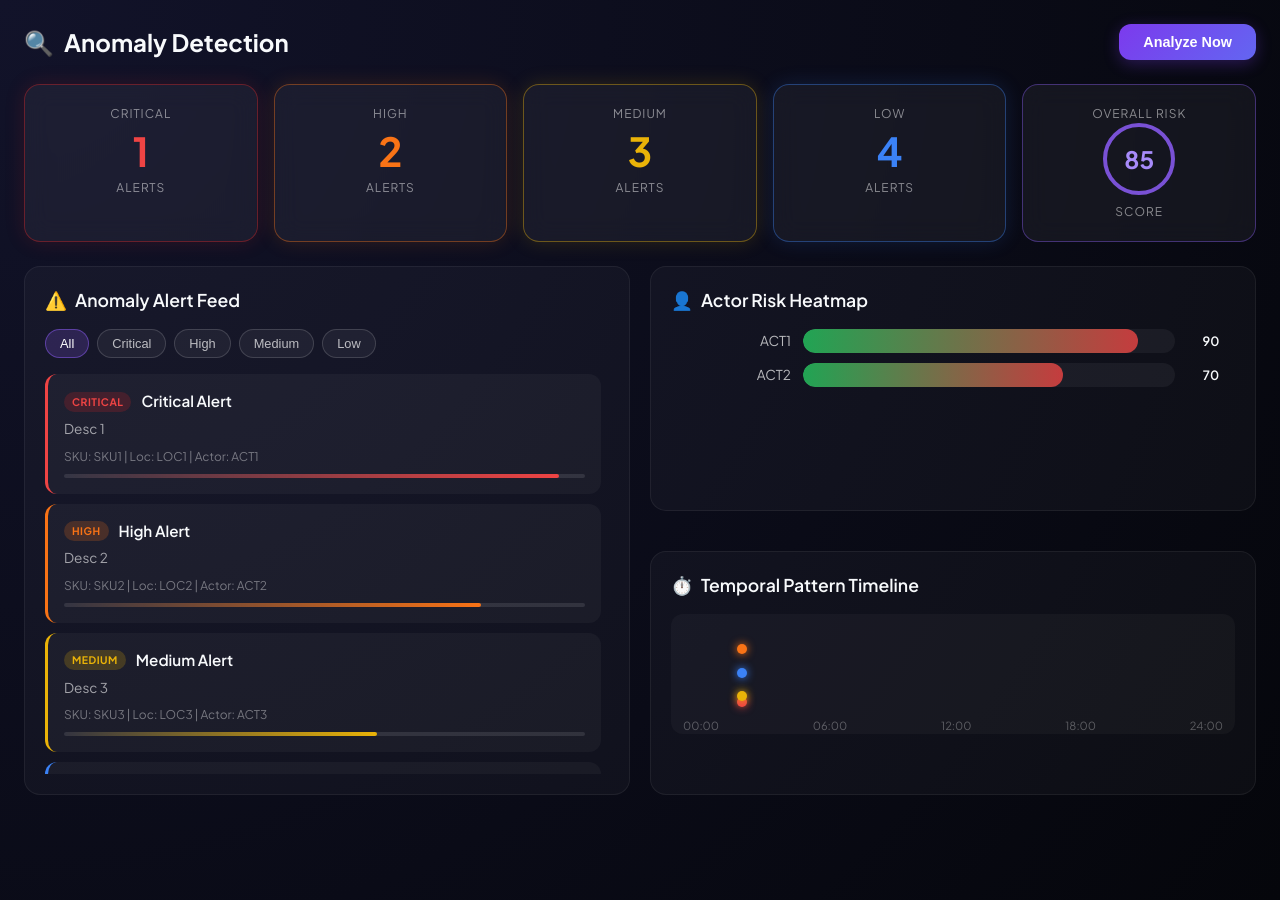
Test case: AnomalyDetectionPanel › filters alerts based on severity
Expected: the text "Critical Alert" is shown, left=141, top=390, right=232, bottom=413
Note: Click Critical filter
Click the button "Critical".
click(132, 344)  # box left=97, top=329, right=166, bottom=358
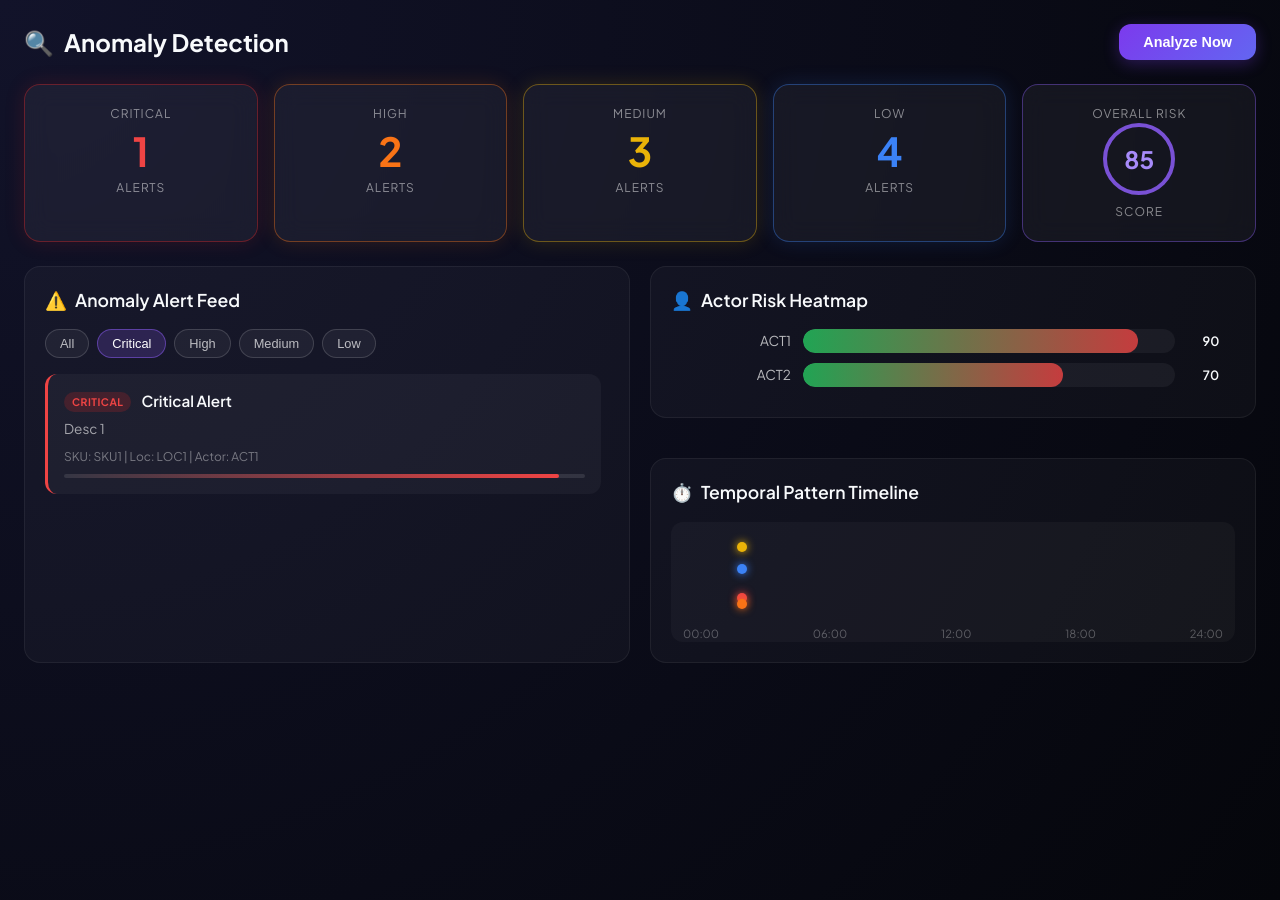
Expected: the text "Critical Alert" is shown, left=141, top=390, right=232, bottom=413
Expected: the button "High Alert" is gone
Expected: the button "Medium Alert" is gone
Note: Click High filter
Click the button "High".
click(202, 344)  # box left=174, top=329, right=231, bottom=358
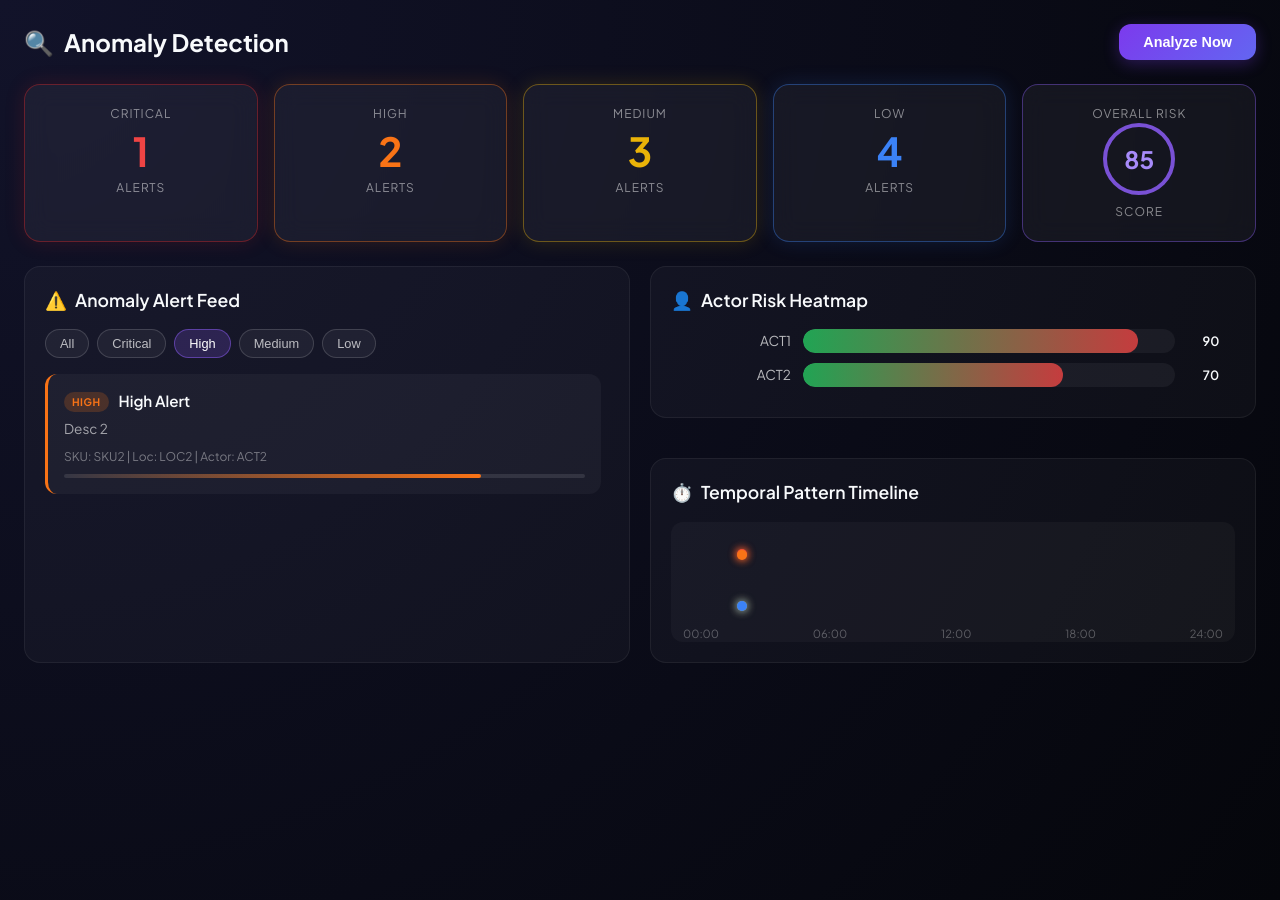
Expected: the button "Critical Alert" is gone
Expected: the text "High Alert" is shown, left=118, top=390, right=190, bottom=413
Note: Click All filter
Click the button "All".
click(67, 344)  # box left=45, top=329, right=89, bottom=358
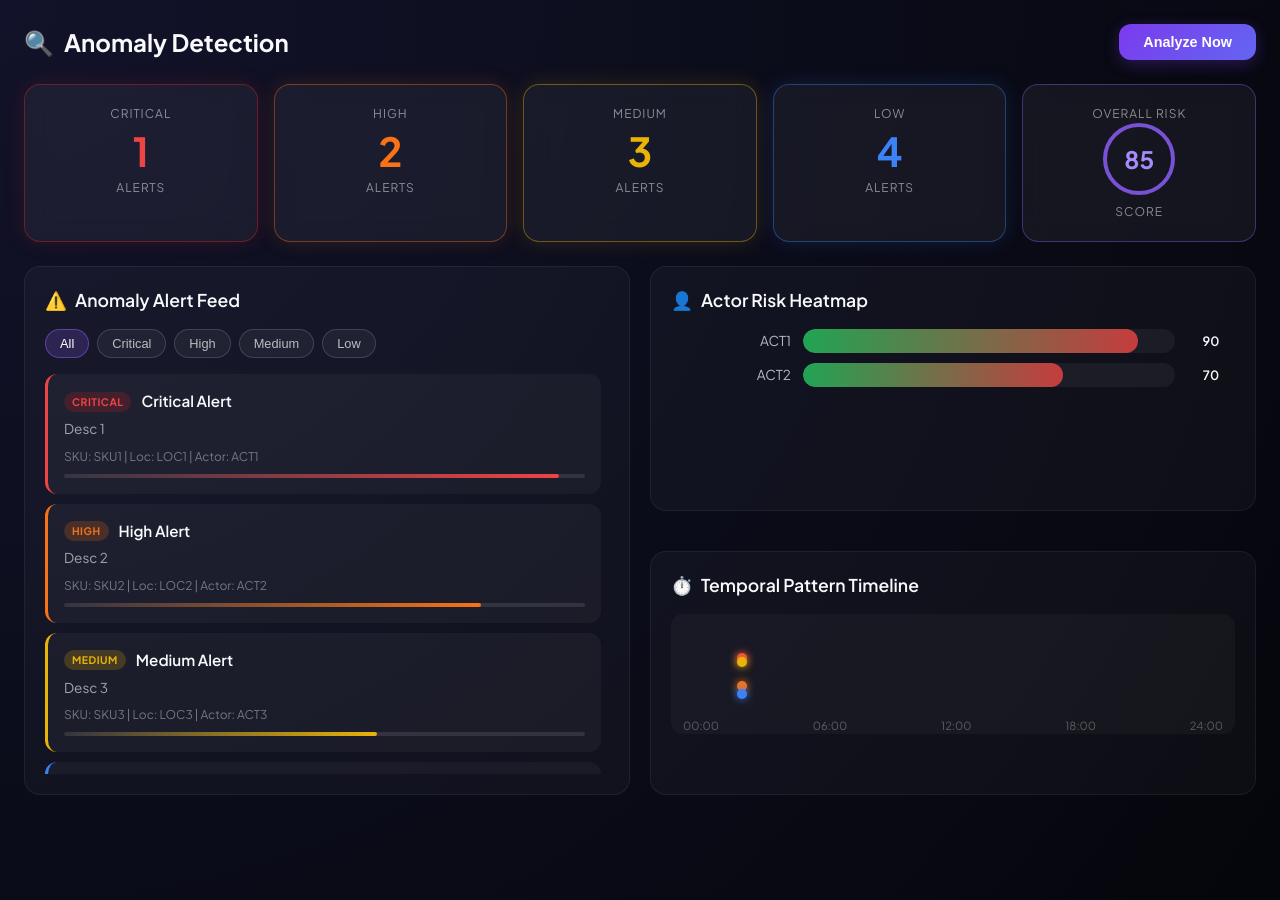
Expected: the text "High Alert" is shown, left=118, top=520, right=190, bottom=542
Expected: the text "Critical Alert" is shown, left=141, top=390, right=232, bottom=413
